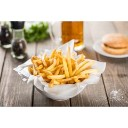frenchfries: (31, 50, 91, 84)
